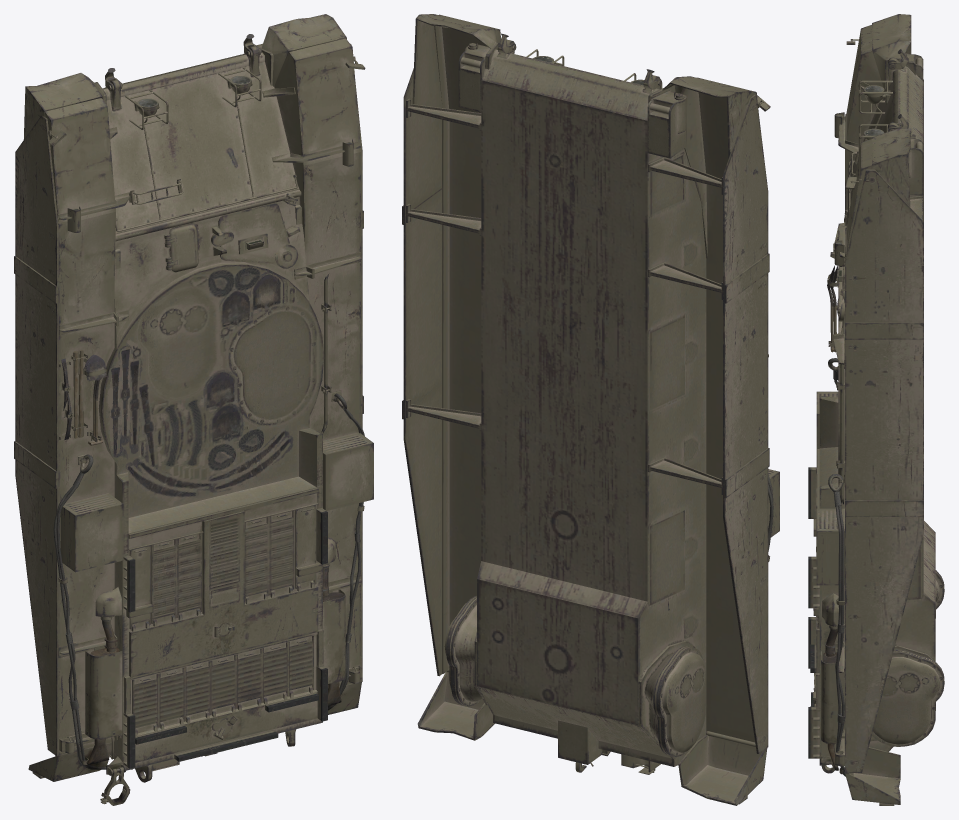
Rendered from Hull.glb.
The picture shows the model from 3 angles, left to right: view 1: azimuth 30°, elevation 25°; view 2: azimuth 150°, elevation 25°; view 3: azimuth 270°, elevation 25°; orthographic projection. The views are drawn at different scales.
Parts seen in each view (by area): view 1: set_0_group_0; view 2: set_0_group_0; view 3: set_0_group_0.
Part boxes in pixels (x1,y1,x2,y2): set_0_group_0: (14,14,373,805); set_0_group_0: (402,14,779,805); set_0_group_0: (808,14,944,805).
Size of the model in its own units: 3.49 by 7.38 by 1.37.
1 material, 1 textured.
